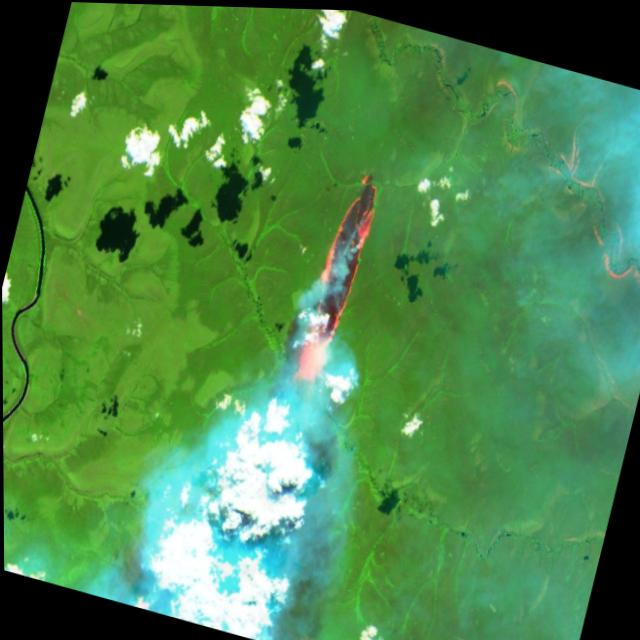fire: (281, 149, 391, 401)
